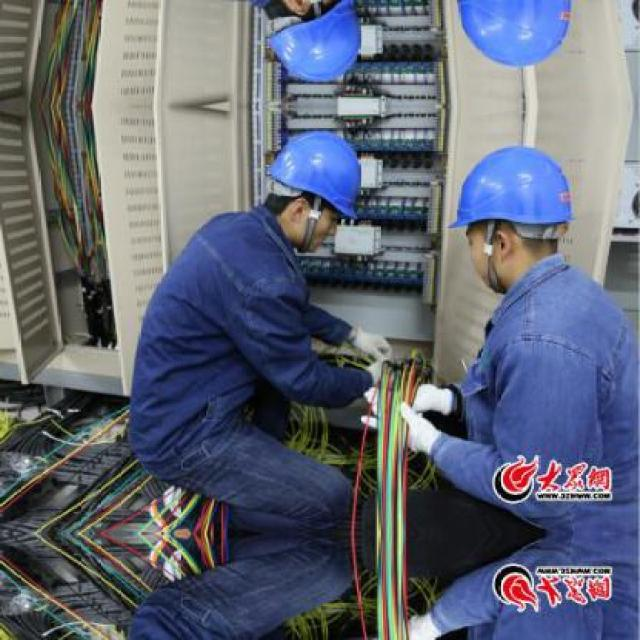helmet: (443, 130, 585, 294), (254, 120, 374, 258), (443, 0, 586, 83), (254, 0, 375, 93)
